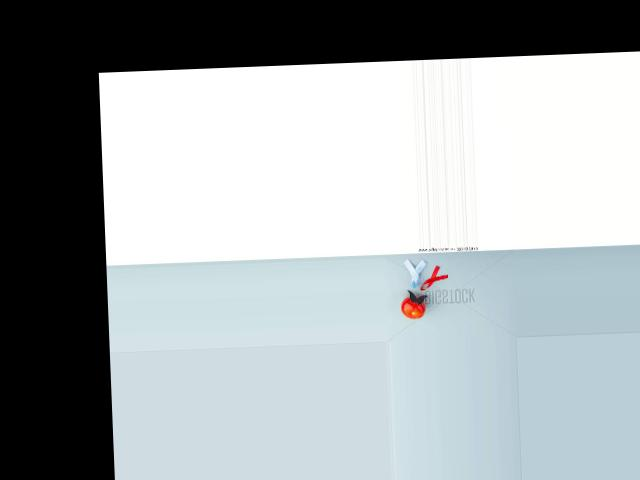tomato: (401, 295, 426, 319)
